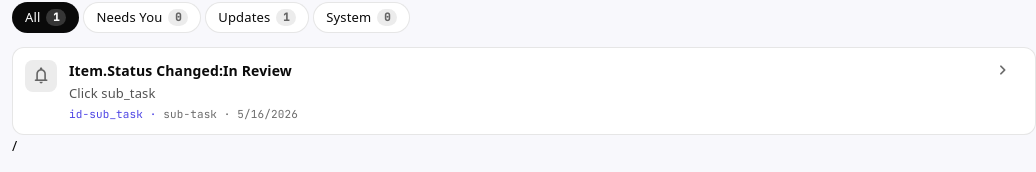
it: InAppFeedTabContent › routes a sub_task notification to its detail page
The width and height of the screenshot is (1036, 172).
Click the text "Click sub_task": (112,93) [69, 84, 156, 102]
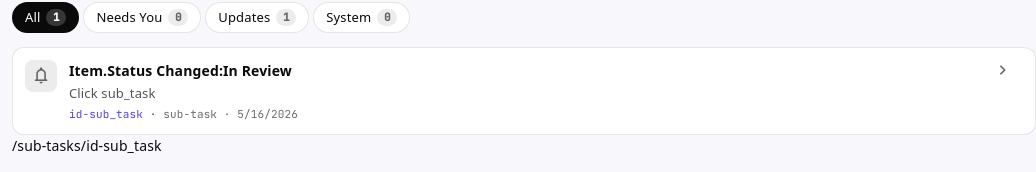
Result: the text with test id "location" reads "/sub-tasks/id-sub_task" at [12, 136, 162, 155]
